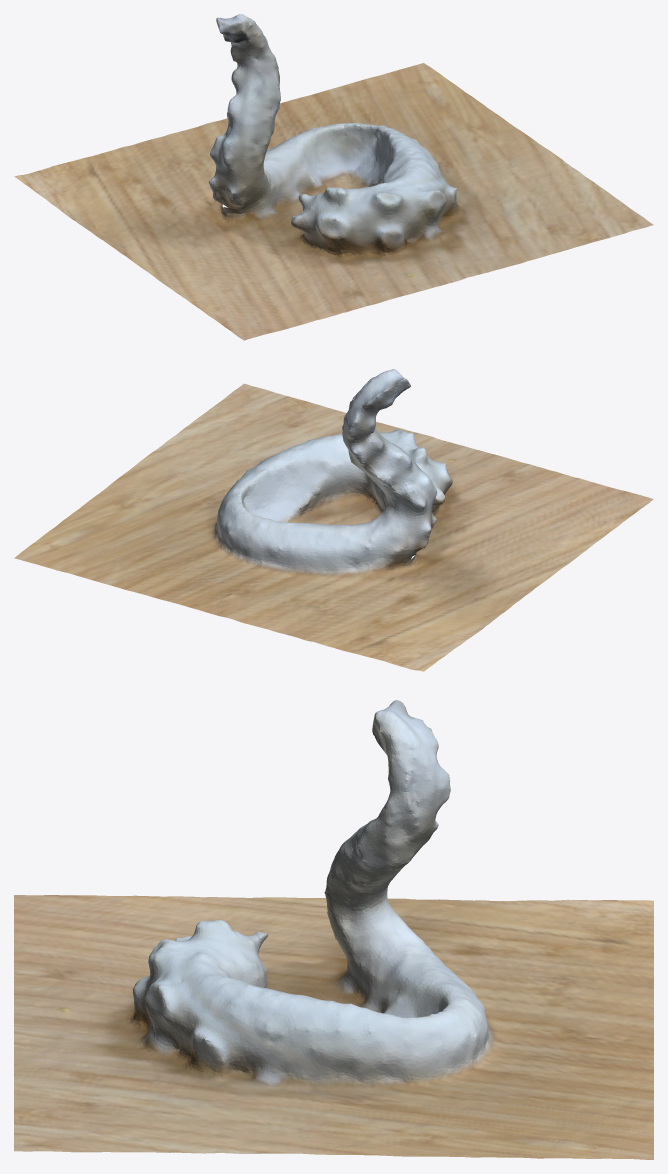
The model's file is Scaniverse 2026-05-25 182400.glb.
3 views of the same model, one above another, from view 1: azimuth 30°, elevation 25°; view 2: azimuth 150°, elevation 25°; view 3: azimuth 270°, elevation 25° (orthographic). The views are drawn at different scales.
Parts seen in each view (by area): view 1: mesh; view 2: mesh; view 3: mesh.
Boxes of the visible parts, left/top/right/bottom form: mesh: left=14, top=14, right=653, bottom=340; mesh: left=14, top=369, right=653, bottom=671; mesh: left=14, top=700, right=653, bottom=1159.
Size of the model in its own units: 0.2707 by 0.1262 by 0.2632.
Materials: 1 (1 with a texture image).
